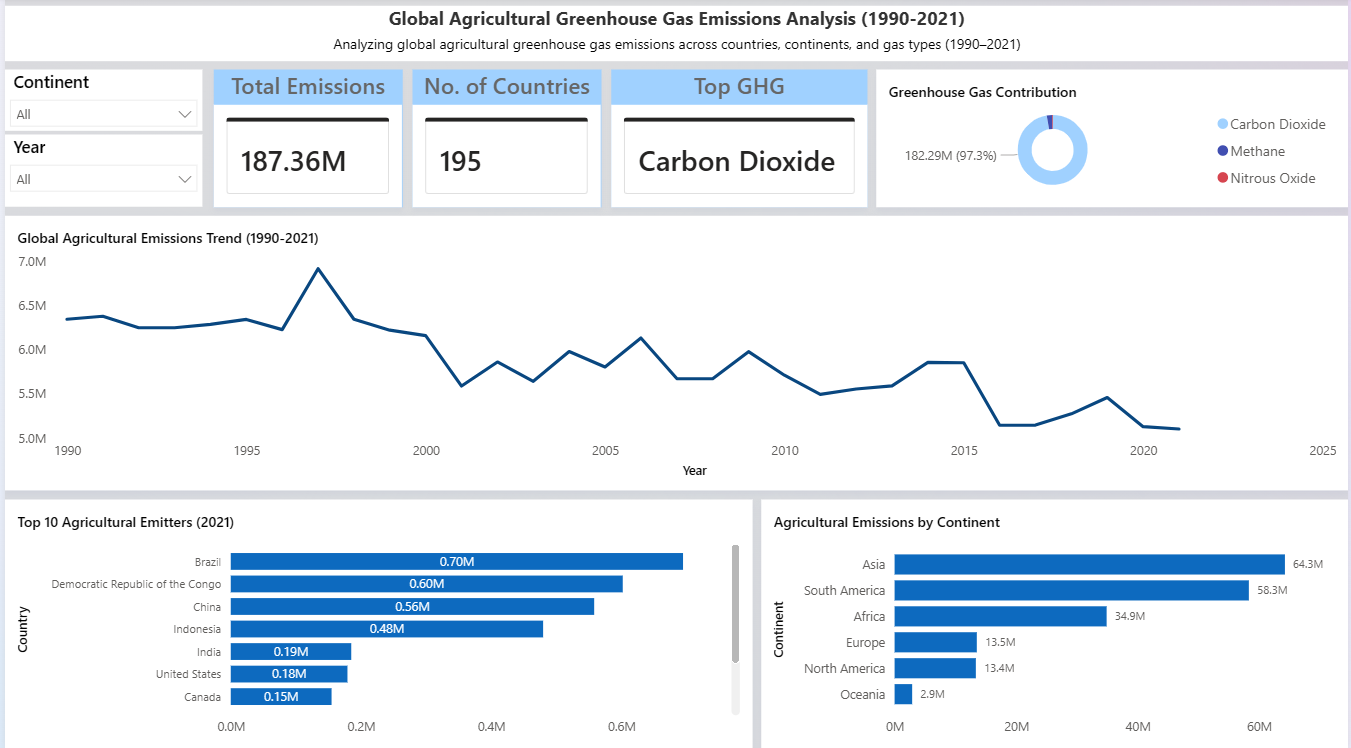

What the dashboard file says about the page in this screenshot:
{"tool":"powerbi","page":{"name":"Page 1","canvas":[1280,720],"ordinal":0},"visuals":[{"type":"lineChart","title":"Global Agricultural Emissions Trend (1990-2021)","fields":{"Category":["GHG_Emissions_Final.Year"],"Y":["Sum(GHG_Emissions_Final.Emission)"]},"box":[0,208.3,1279.8,261.9],"z":0},{"type":"slicer","fields":{"Values":["GHG_Emissions_Final.Continent"]},"box":[0,69,188.1,58.3],"z":1000},{"type":"clusteredBarChart","title":"Agricultural Emissions by Continent","fields":{"Category":["GHG_Emissions_Final.Continent"],"Y":["Sum(GHG_Emissions_Final.Emission)"]},"box":[720.2,478.6,559.5,241.7],"z":2000},{"type":"donutChart","title":"Greenhouse Gas Contribution","fields":{"Category":["GHG_Emissions_Final.Gas_Type"],"Y":["Sum(GHG_Emissions_Final.Emission)"]},"box":[829.8,69,450,131],"z":3000},{"type":"textbox","title":"Global Agricultural Greenhouse Gas Emissions Analysis (1990-2021)","box":[0,8.4,1280,52.8],"z":4000},{"type":"cardVisual","title":"Total Emissions","fields":{"Data":["Sum(GHG_Emissions_Final.Emission)"]},"box":[198.8,69,179.8,131],"z":5000},{"type":"slicer","fields":{"Values":["GHG_Emissions_Final.Year"]},"box":[0,131,188.1,69],"z":6000},{"type":"cardVisual","title":"No. of Countries","fields":{"Data":["Count(GHG_Emissions_Final.Country)"]},"box":[388.1,69,179.8,131],"z":7000},{"type":"cardVisual","title":"Top GHG","fields":{"Data":["Min(GHG_Emissions_Final.Gas_Type)"]},"box":[577.4,69,244,131],"z":8000},{"type":"clusteredBarChart","title":"Top 10 Agricultural Emitters (2021)","fields":{"Category":["GHG_Emissions_Final.Country"],"Y":["Sum(GHG_Emissions_Final.Emission)"]},"box":[0,478.6,711.9,241.7],"z":9000}]}

Visuals, with their boxes in screenshot pixels (x1, y1, x2, y2), scaled from the page's 1280x720 canvas onto the 1351x748 screenshot:
"Global Agricultural Emissions Trend (1990-2021)" lineChart: BBox(0, 216, 1350, 488)
slicer - GHG_Emissions_Final.Continent: BBox(0, 72, 199, 132)
"Agricultural Emissions by Continent" clusteredBarChart: BBox(760, 497, 1350, 747)
"Greenhouse Gas Contribution" donutChart: BBox(876, 72, 1350, 208)
"Global Agricultural Greenhouse Gas Emissions Analysis (1990-2021)" textbox: BBox(0, 9, 1350, 64)
"Total Emissions" cardVisual: BBox(210, 72, 400, 208)
slicer - GHG_Emissions_Final.Year: BBox(0, 136, 199, 208)
"No. of Countries" cardVisual: BBox(410, 72, 599, 208)
"Top GHG" cardVisual: BBox(609, 72, 867, 208)
"Top 10 Agricultural Emitters (2021)" clusteredBarChart: BBox(0, 497, 751, 747)
